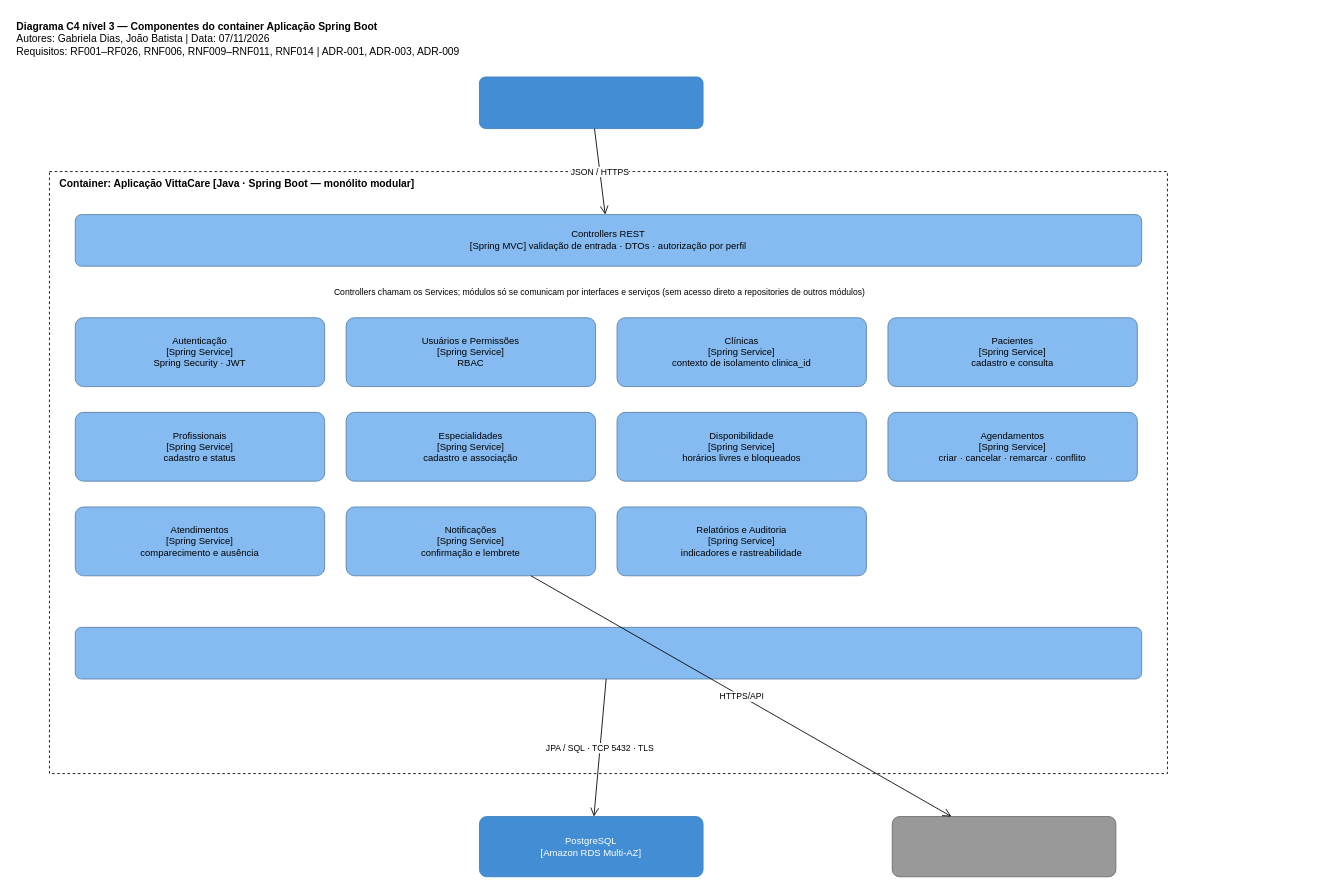
The diagram is 1319 pixels wide and 892 high, and some of its shapes have lost their labels. Each missing label, with the centre of its shape:
"Front-end React [Container]" belongs at point (591, 102).
"Provedor de e-mail/SMS [Sistema externo]" belongs at point (1003, 846).
"Repositories [Spring Data JPA / Hibernate] filtros por clinica_id · transações" belongs at point (608, 653).
